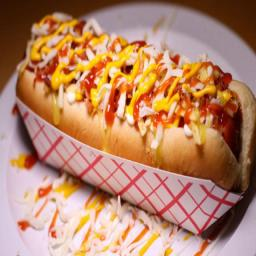hotdog: (13, 6, 256, 196)
